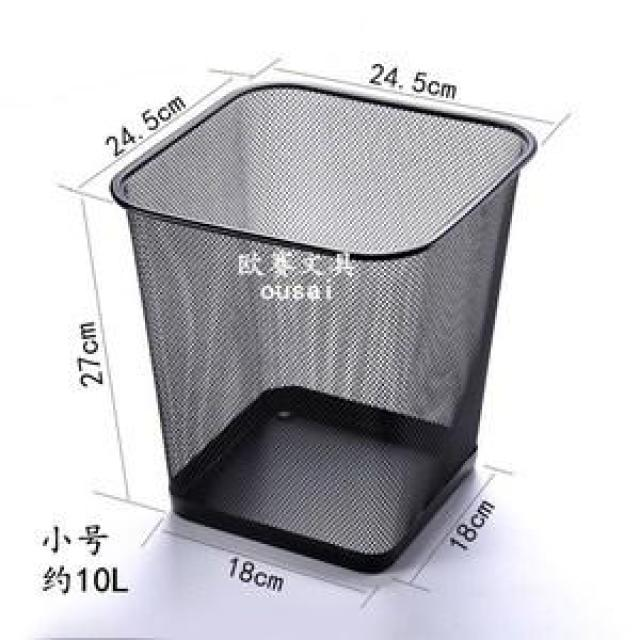dustbin: (105, 73, 548, 582)
